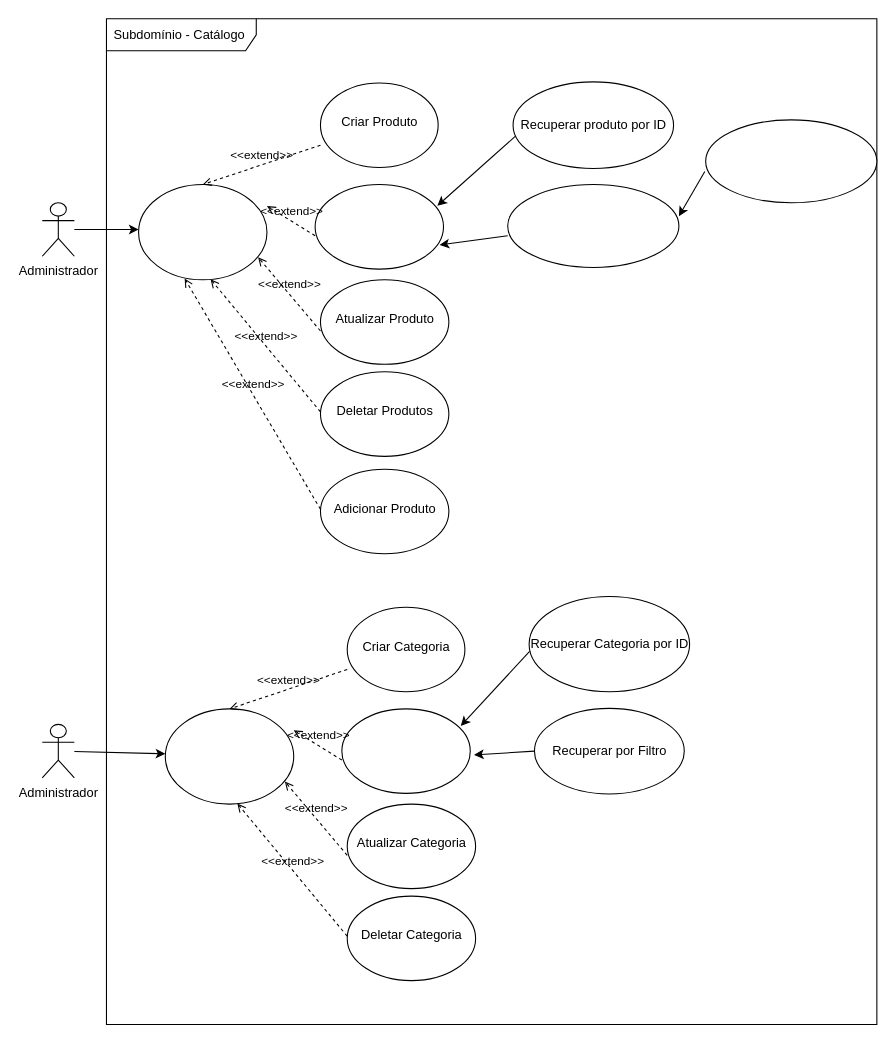
The diagram is 896 pixels wide and 1043 high, and some of its shapes have lost their labels. The centre of each missing label's shape, as x and y in pixels:
"Gerenciar Categoria" belongs at point 229,756.
"Gerenciar Produto" belongs at point 202,232.
"Recuperar Categoria" belongs at point 405,750.
"Recuperar por Categoria" belongs at point 791,161.
"Recuperar Produto" belongs at point 379,226.
"Recuperar produto por Filtro" belongs at point 593,226.
